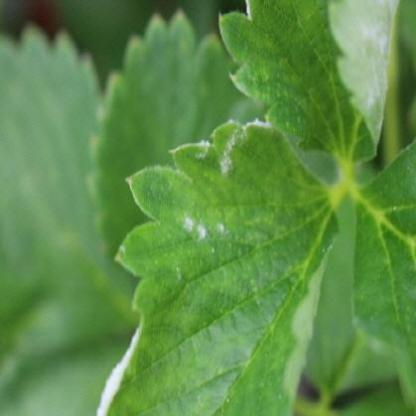Strawberry_Powdery_Mildew_Leaf: (93, 117, 344, 415), (217, 0, 401, 168)
